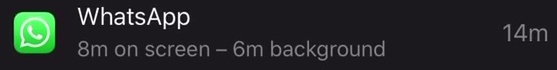name: (72, 1, 198, 31)
time: (229, 34, 267, 68), (72, 35, 112, 64)
